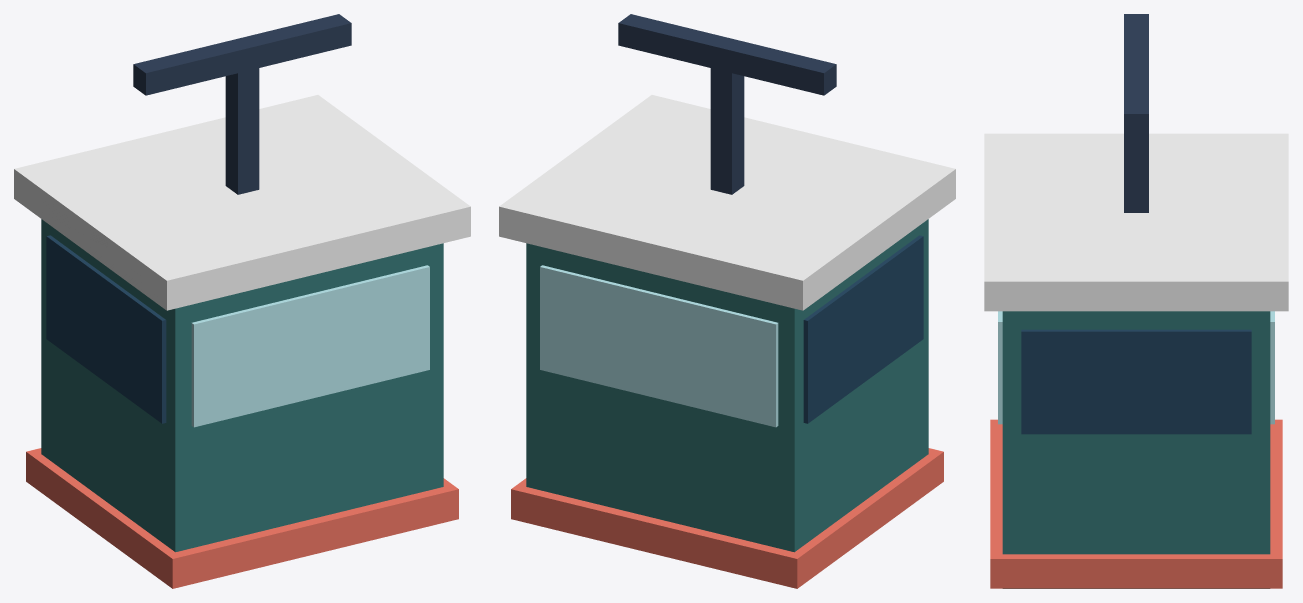
Rendered from cable_car.glb.
3 renders of one model, left to right at view 1: azimuth 30°, elevation 25°; view 2: azimuth 150°, elevation 25°; view 3: azimuth 270°, elevation 25°, orthographic.
Parts seen in each view (by area): view 1: Prop_cable_car; view 2: Prop_cable_car; view 3: Prop_cable_car.
Part boxes in pixels (x1,y1,x2,y2): Prop_cable_car: [14, 14, 470, 588]; Prop_cable_car: [499, 14, 955, 588]; Prop_cable_car: [984, 14, 1288, 588].
Bounding box in the file's own units: 1.7 × 2.46 × 1.48.
